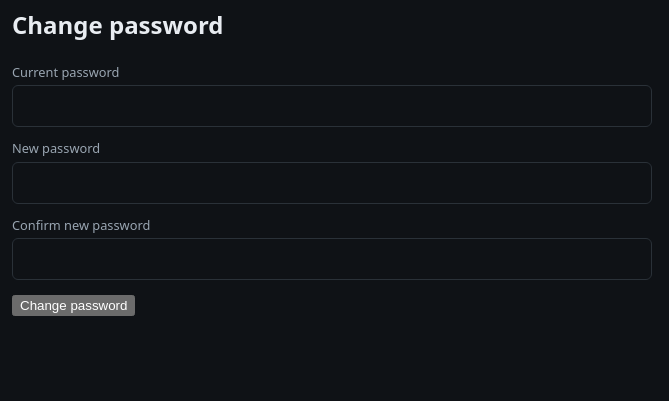
ChangePasswordCard › rejects a mismatch client-side
This screenshot has width=669, height=401.
Type "old-password-12" into the password field labelled "Current password" at (332, 106), box [12,85,652,127]
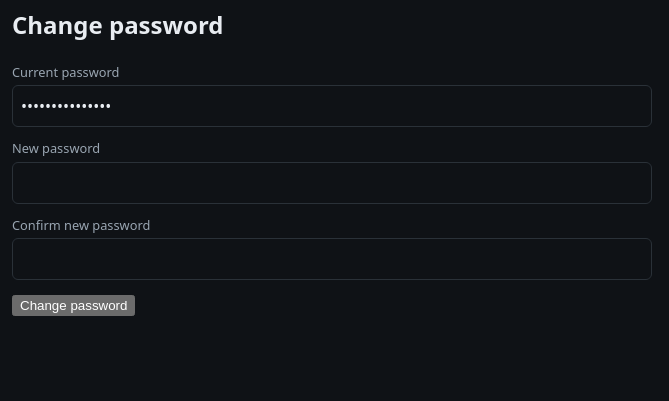
Type "a-brand-new-password" into the password field labelled "New password" at (332, 183), box [12,162,652,204]
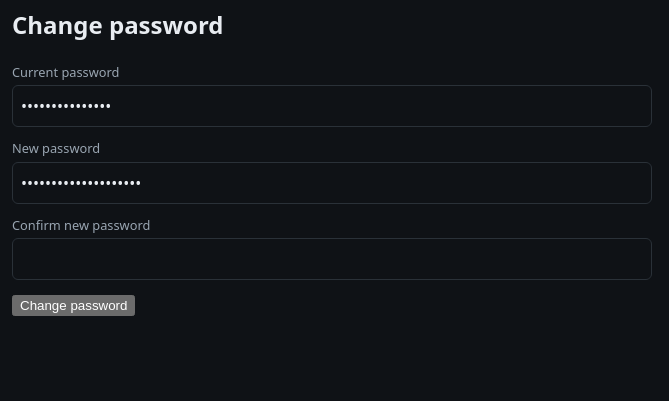
Type "nope-different" into the password field labelled "Confirm new password" at (332, 259), box [12,238,652,280]
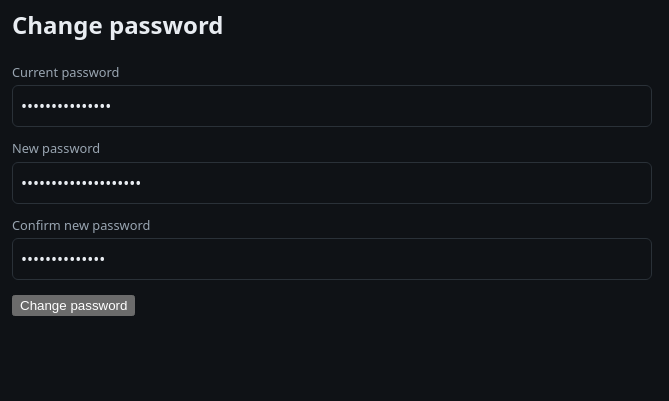
Click the button "Change password" at (74, 305), box [12,295,135,316]
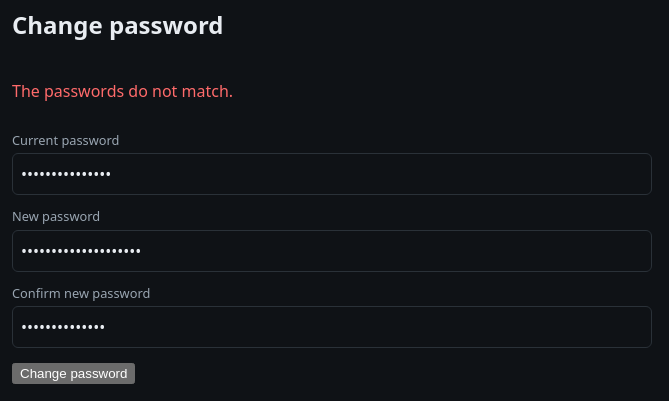
Check: the text "The passwords do not match." is shown, box [12,80,233,102]
